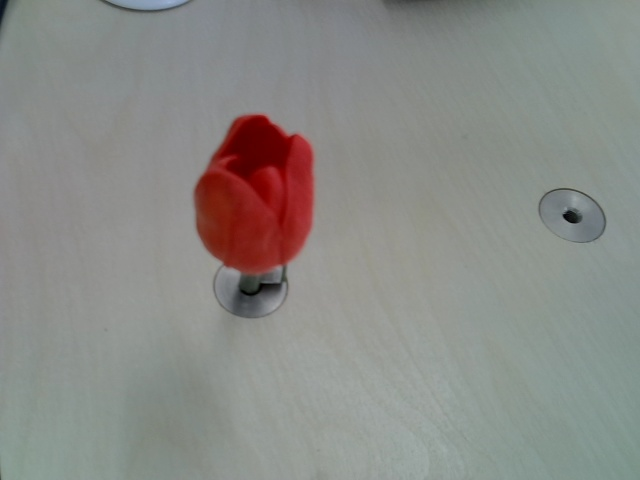튤립: (194, 114, 318, 275)
